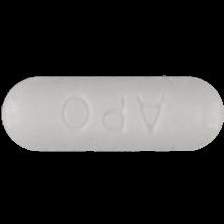60429-390: (0, 0, 224, 224)
